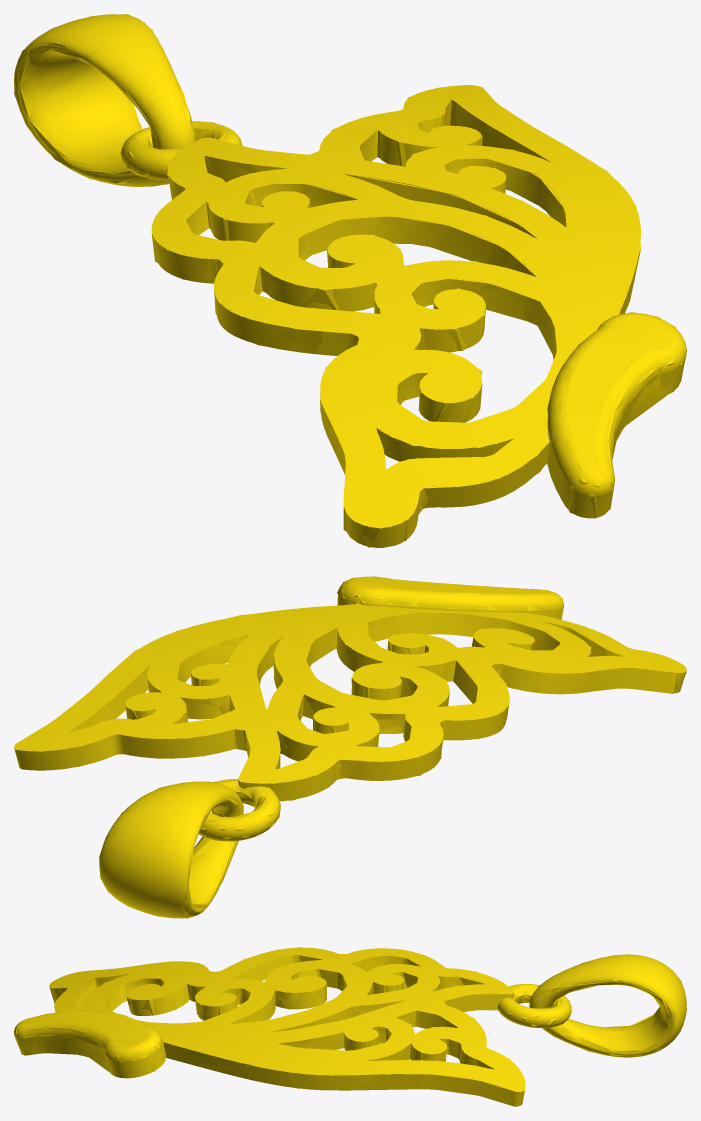
The picture shows the model from 3 angles, top to bottom: view 1: azimuth 30°, elevation 25°; view 2: azimuth 150°, elevation 25°; view 3: azimuth 270°, elevation 25°; orthographic projection. The views are drawn at different scales.
Visible parts, largest first — view 1: highPolyMesh, lowPolyMesh; view 2: highPolyMesh, lowPolyMesh; view 3: highPolyMesh, lowPolyMesh.
Part boxes in pixels (left/top/right/bottom): highPolyMesh: left=14, top=14, right=686, bottom=547; lowPolyMesh: left=14, top=14, right=686, bottom=547; highPolyMesh: left=14, top=576, right=686, bottom=918; lowPolyMesh: left=14, top=576, right=686, bottom=918; highPolyMesh: left=14, top=947, right=686, bottom=1106; lowPolyMesh: left=14, top=947, right=686, bottom=1106.
Size of the model in its own units: 0.0167 by 0.00484 by 0.0317.
